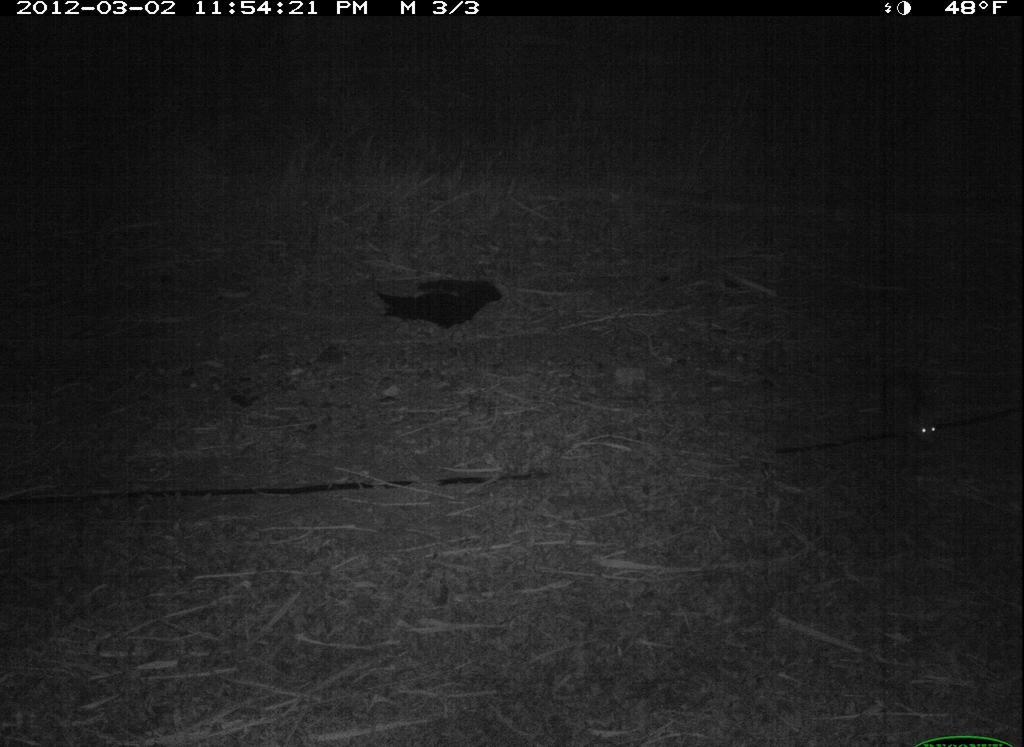opossum: (894, 385, 1014, 482)
